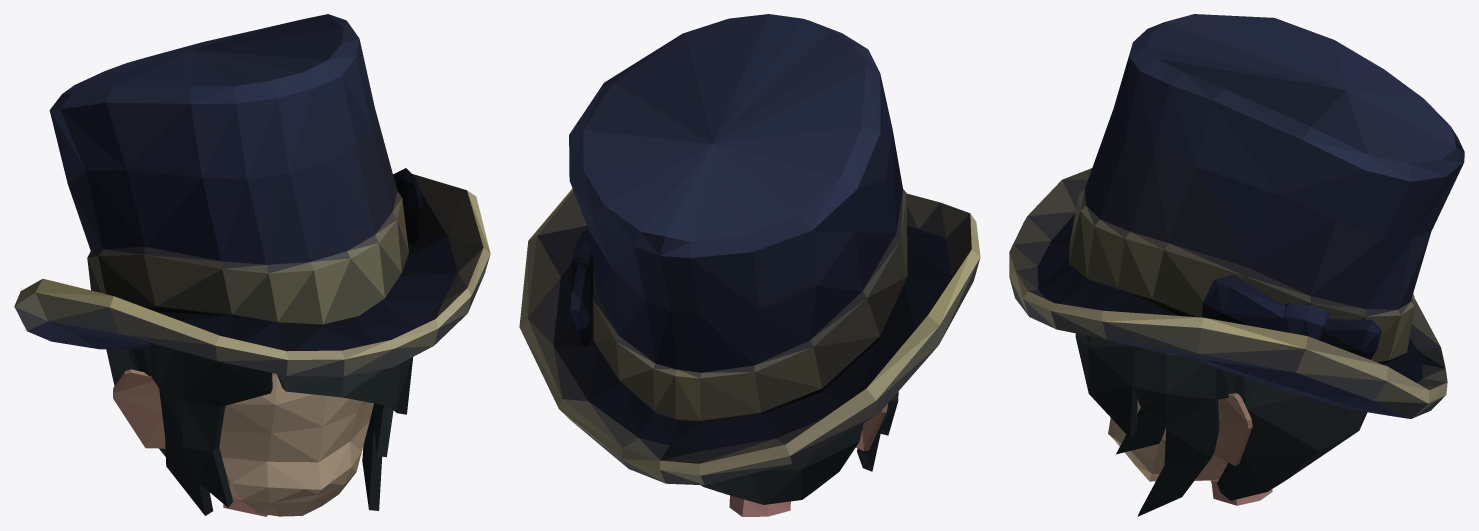
Rendered from helm_lightskin_ponytail_black_tophat.fbx.
3 views of the same model, side by side, from view 1: azimuth 30°, elevation 25°; view 2: azimuth 150°, elevation 25°; view 3: azimuth 270°, elevation 25° (orthographic). The views are drawn at different scales.
Visible parts, largest first — view 1: helm_lightskin_ponytail_black_tophat; view 2: helm_lightskin_ponytail_black_tophat; view 3: helm_lightskin_ponytail_black_tophat.
Boxes of the visible parts, x1,y1,x2,y2 form: helm_lightskin_ponytail_black_tophat: (14, 14, 490, 516); helm_lightskin_ponytail_black_tophat: (519, 14, 980, 516); helm_lightskin_ponytail_black_tophat: (1009, 14, 1464, 516).
Size of the model in its own units: 1.67 by 1.86 by 1.69.
